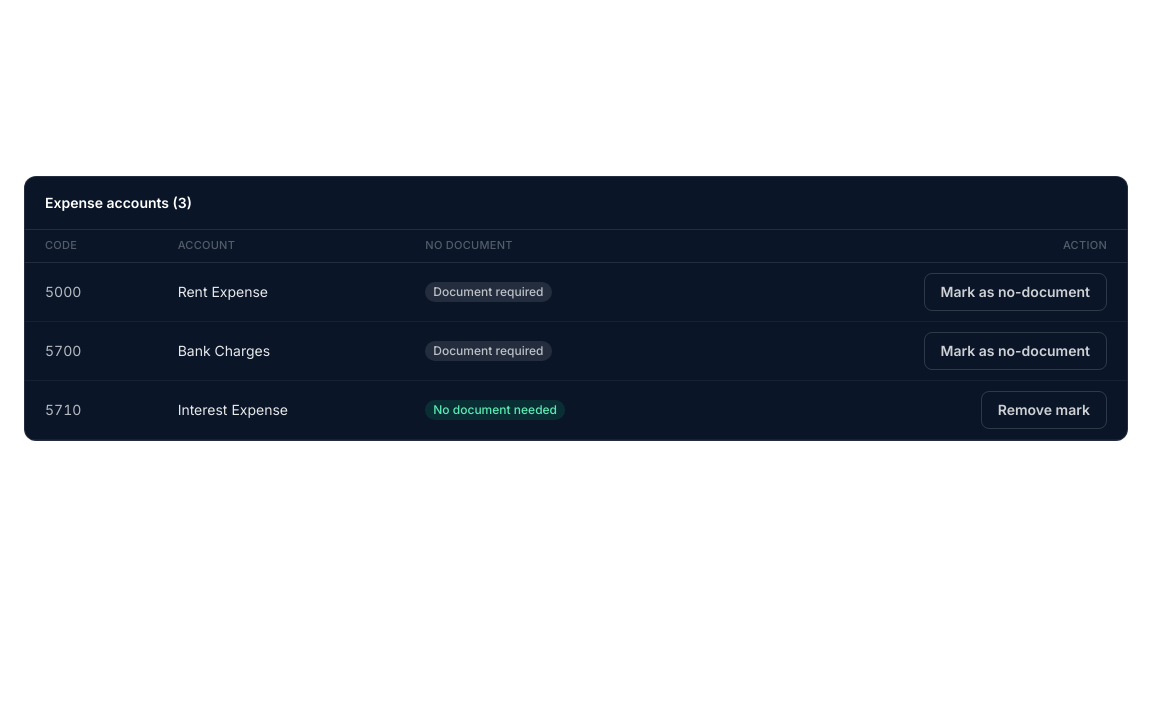
it: a client's no-document accounts › shows the mark the server returned, and only once it has answered
The image size is (1152, 720).
Click the button "Mark as no-document" in the row of "5700". click: (1015, 351)
box: [924,332,1107,370]
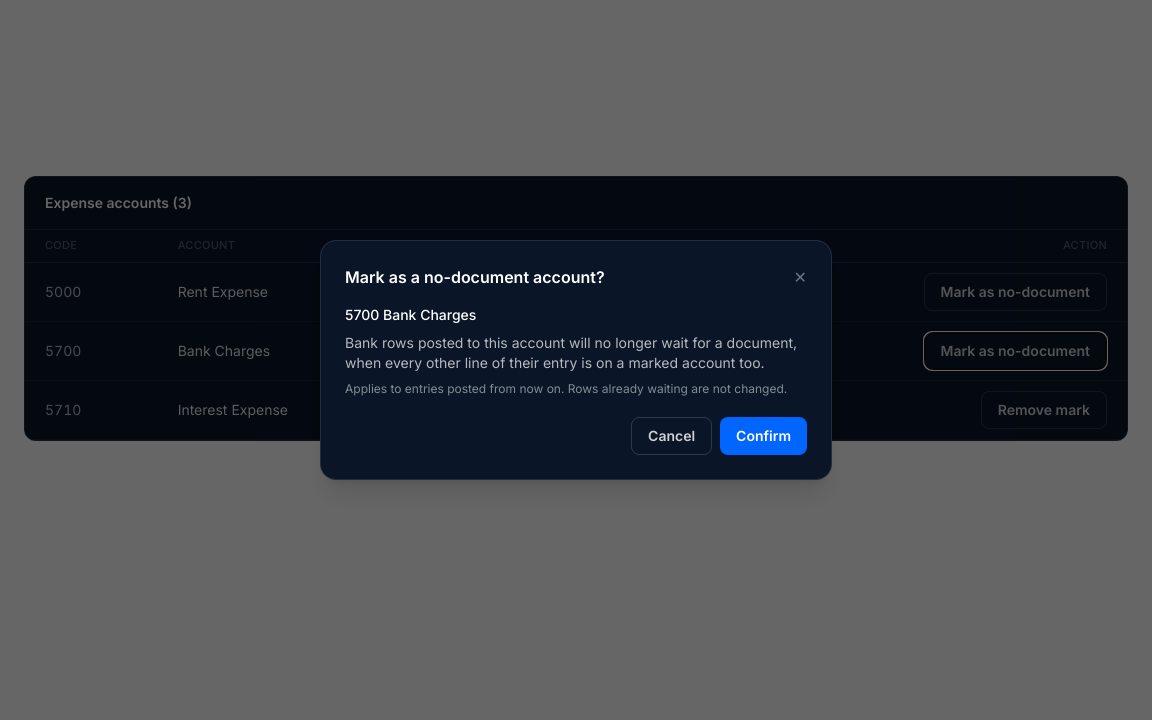
Click the button "Confirm". click: (764, 436)
box: [720,417,807,455]
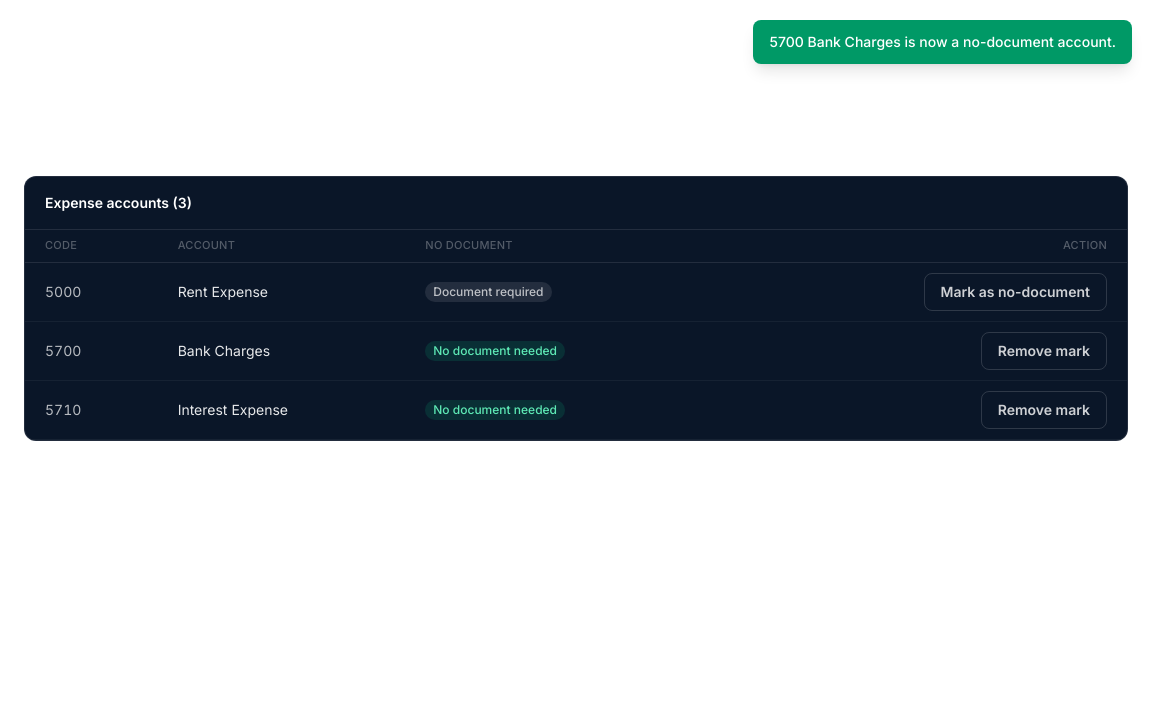
expect the text "Document required" is shown: met, box [425,282,552,302]
expect the text "5700 Bank Charges is now a no-document account." is shown: met, box [754,20,1132,64]
expect the 1st text "No document needed" is shown: met, box [425,341,565,361]
Click the button "Mark as no-document". click: (1015, 292)
box: [924,273,1107,311]
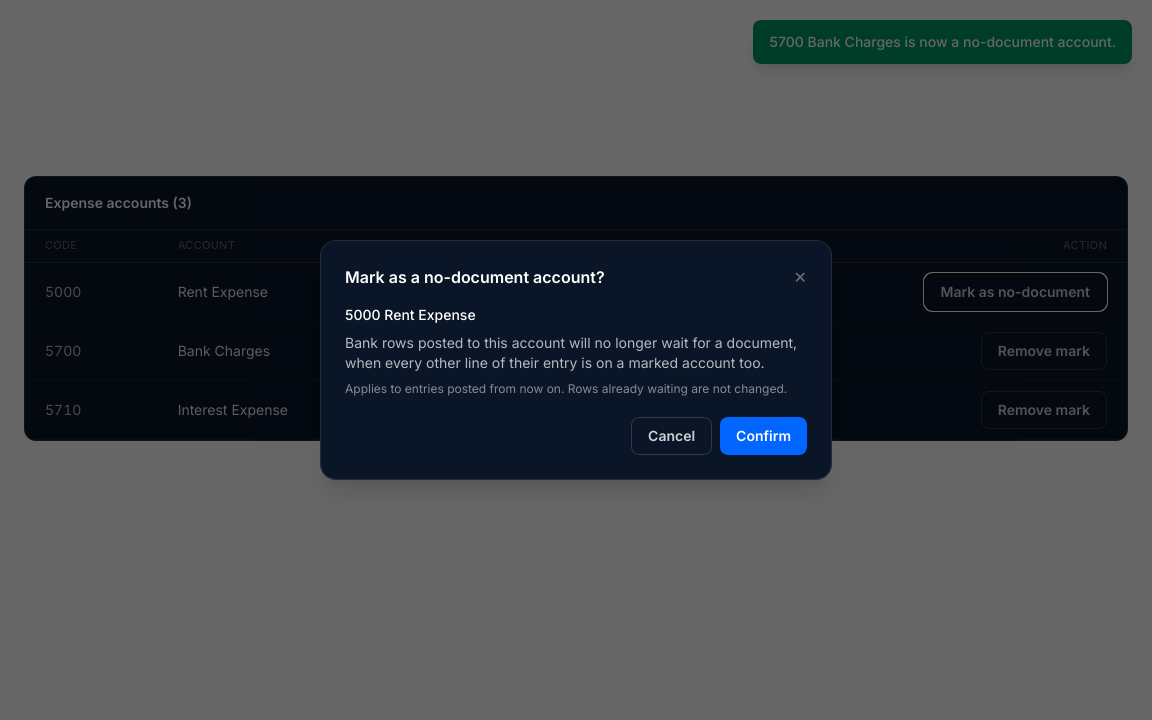
Click the button "Confirm". click: (764, 436)
box: [720,417,807,455]
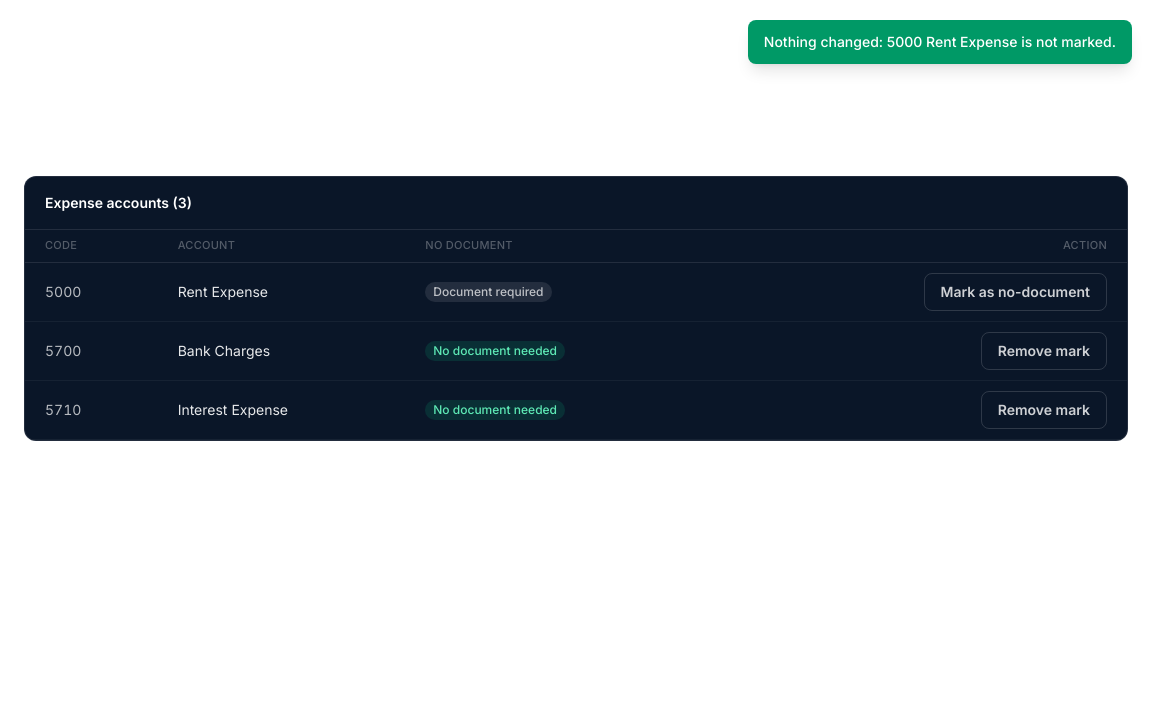
expect the text "Document required" is shown: met, box [425,282,552,302]
expect the heading "Mark as a no-document account?" is gone: met
